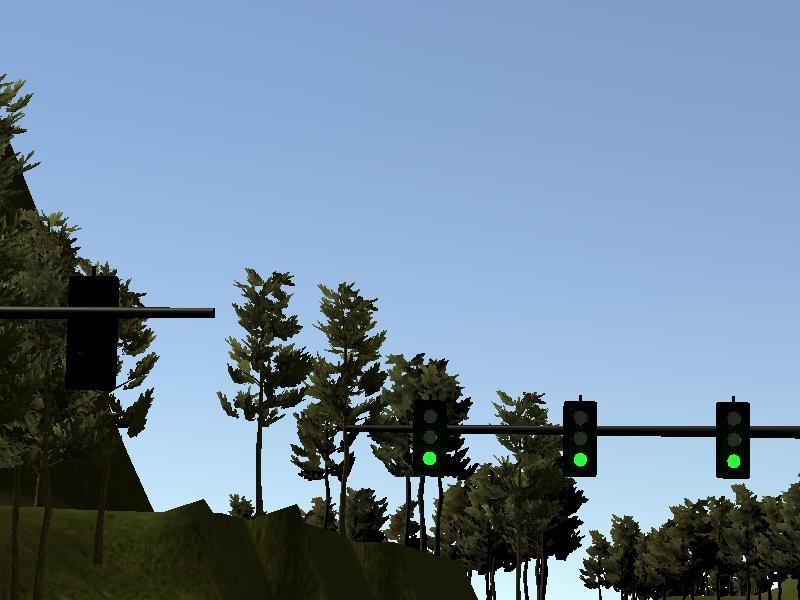GREEN: (563, 401, 597, 478), (717, 401, 750, 479), (415, 402, 446, 472)
